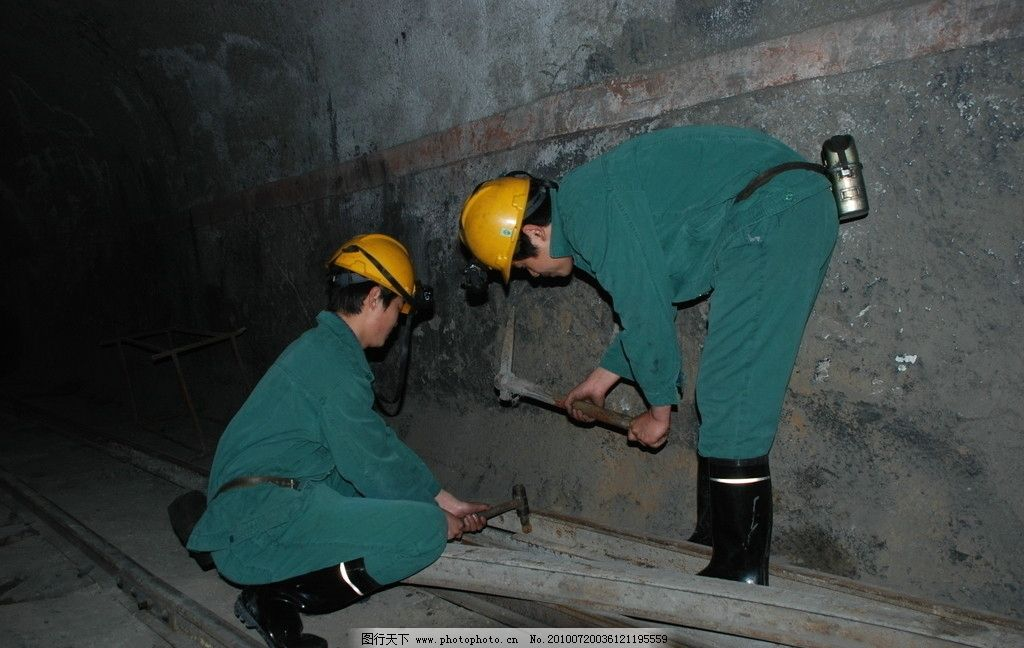helmet: (450, 169, 574, 290), (303, 212, 436, 318)
